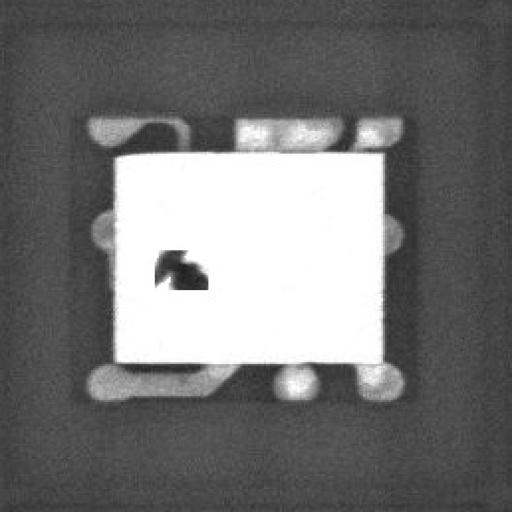DIE_INK: (153, 248, 210, 292)
